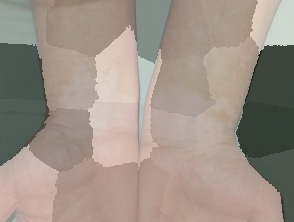vitiligo: (36, 4, 163, 194), (139, 0, 258, 190)
